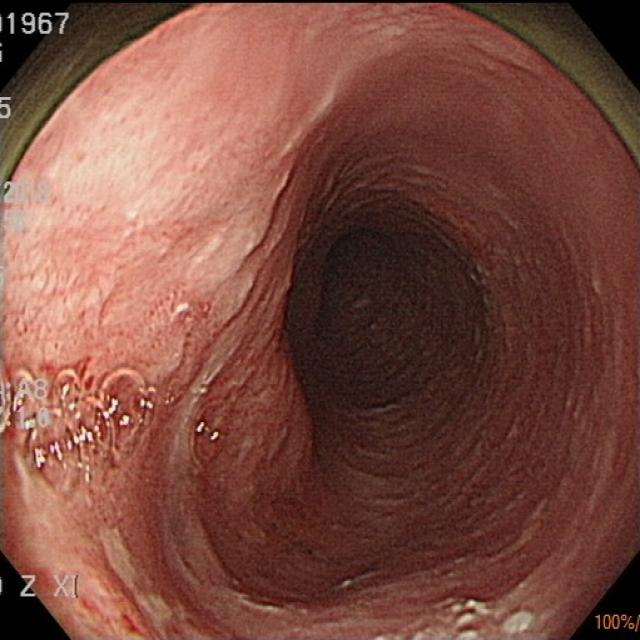A: (24, 273, 217, 360)
E: (310, 222, 451, 392)
J: (410, 594, 543, 640)
S: (3, 375, 53, 430), (2, 12, 71, 38), (2, 181, 51, 205), (594, 612, 640, 632), (52, 574, 79, 600), (2, 209, 29, 233), (21, 574, 37, 602), (2, 97, 14, 122)
T: (27, 365, 160, 481), (191, 398, 229, 462)
